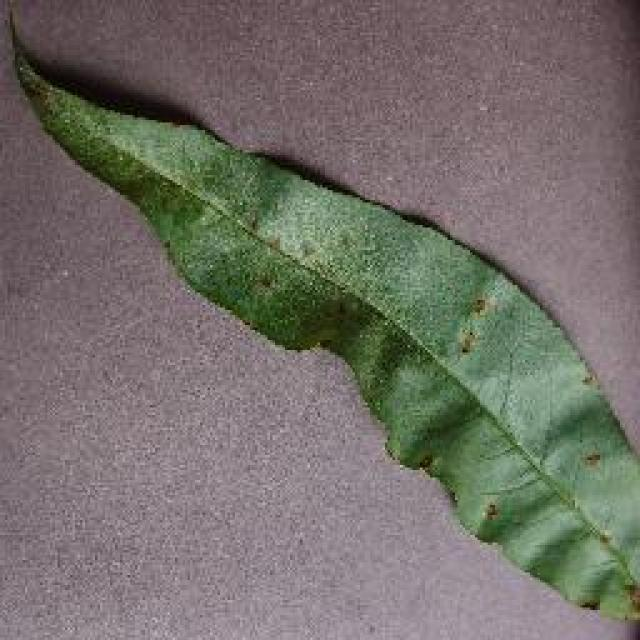Peach_Bacterial_Spot: (182, 168, 580, 460)
